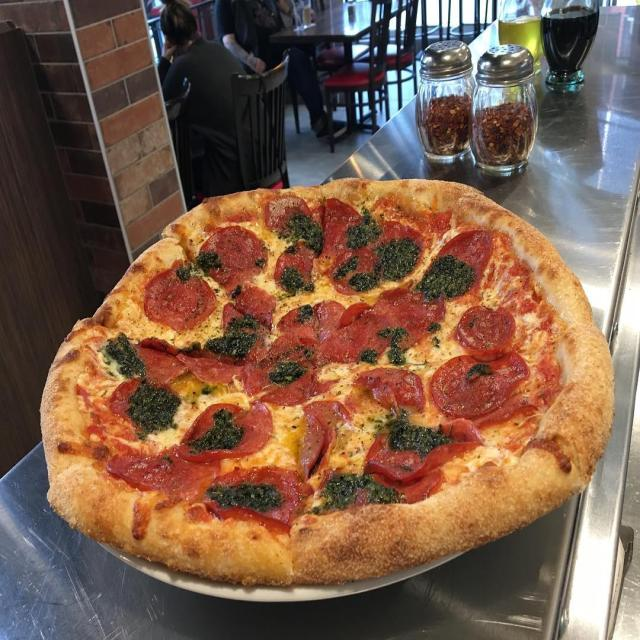pepperoni: (204, 464, 314, 532), (366, 421, 482, 483), (430, 352, 534, 418), (181, 402, 274, 462), (143, 266, 220, 333), (104, 449, 219, 492), (368, 287, 446, 350), (197, 224, 268, 288), (178, 338, 269, 383), (435, 226, 491, 291), (369, 219, 429, 279), (298, 399, 350, 464), (455, 306, 519, 358), (355, 368, 425, 415), (104, 375, 178, 419), (129, 336, 190, 389), (242, 366, 320, 407), (322, 319, 391, 363), (219, 284, 276, 336), (277, 297, 342, 342), (356, 471, 446, 502), (316, 200, 362, 260), (328, 244, 382, 293), (264, 194, 312, 236), (268, 335, 325, 369), (274, 244, 317, 287), (136, 335, 182, 356)
pizza: (36, 172, 617, 590)
